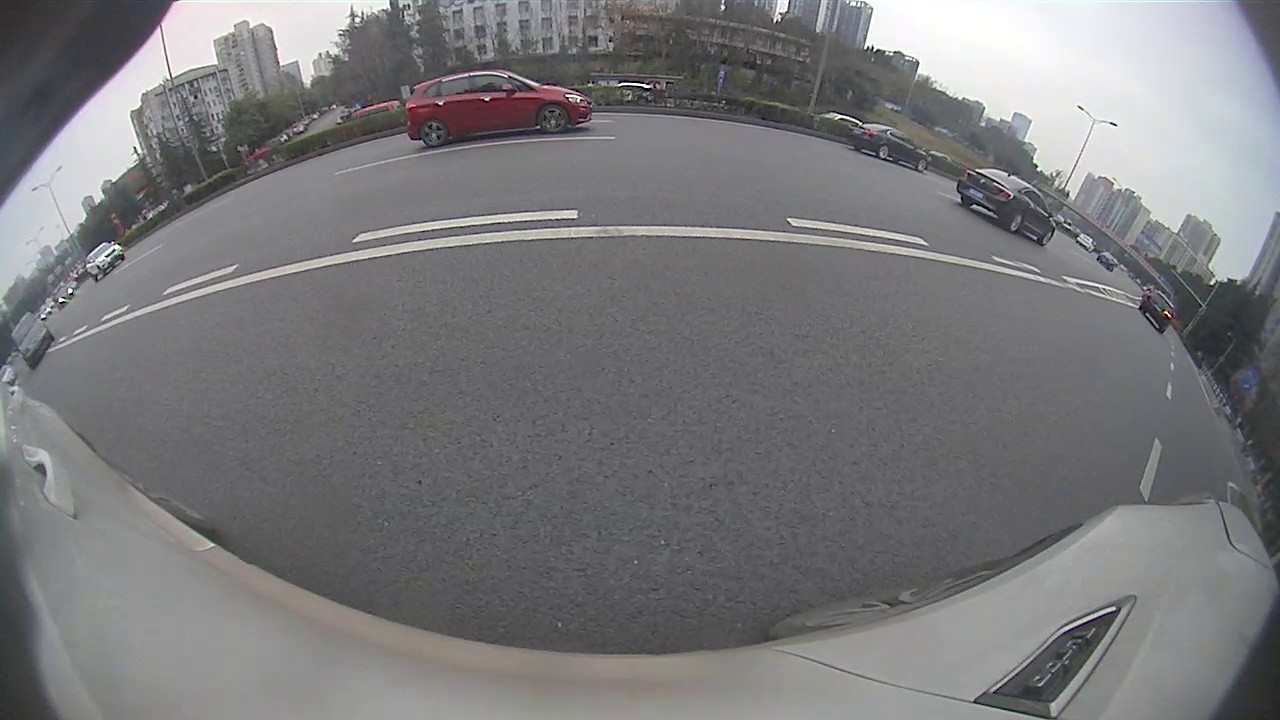car: (405, 69, 593, 147), (959, 168, 1056, 245), (848, 122, 928, 171), (10, 312, 54, 368), (85, 243, 125, 280), (1140, 291, 1174, 333)
front: (538, 103, 570, 136), (1037, 228, 1054, 247), (915, 158, 928, 172)
rear: (420, 118, 451, 148), (1006, 212, 1025, 234), (876, 144, 891, 160)
